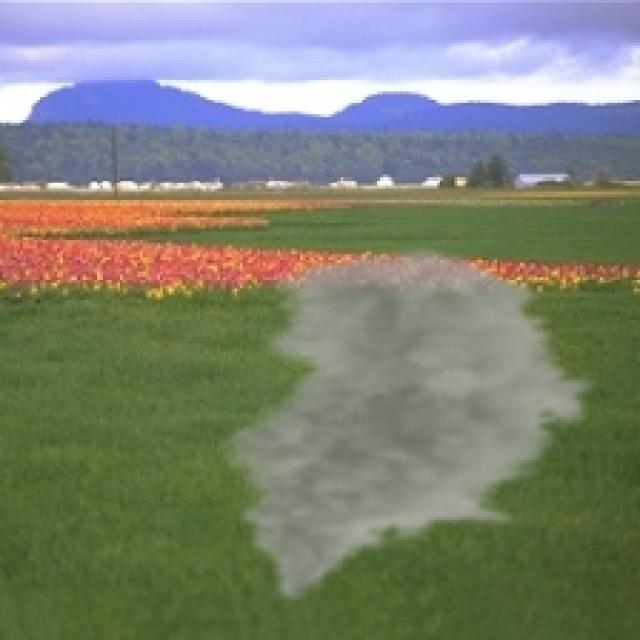smoke: (211, 243, 603, 606)
